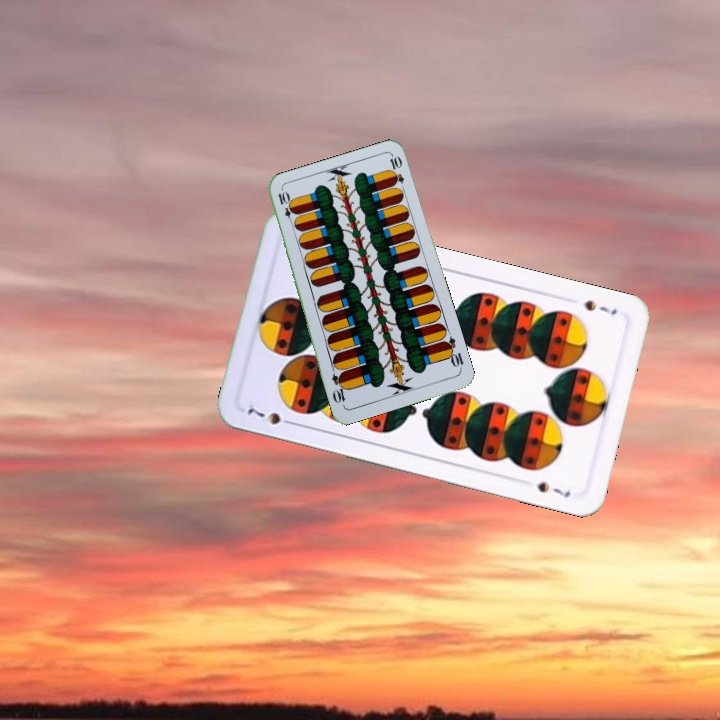E10: (439, 333, 466, 373), (274, 187, 297, 227)
S7: (243, 404, 298, 428), (580, 295, 620, 318)
